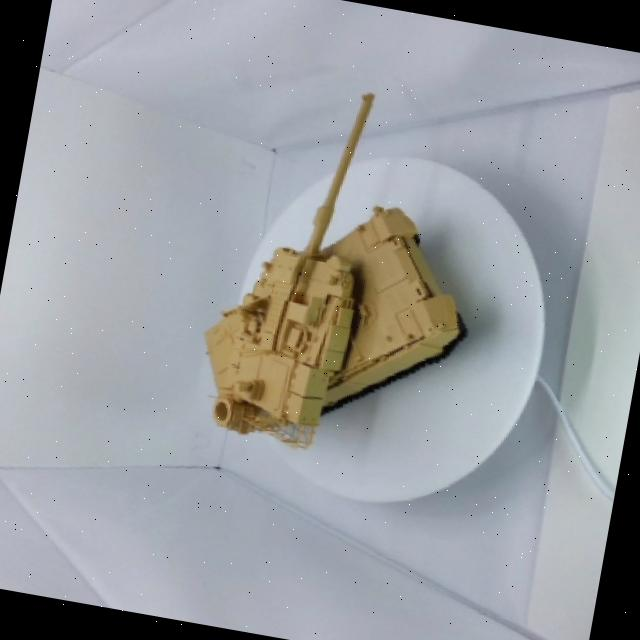korea tank: (155, 54, 530, 494)
